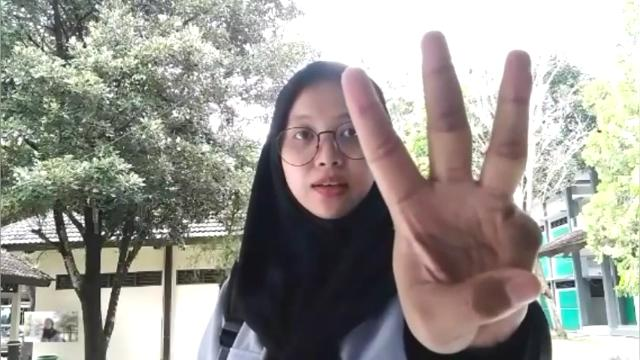W: (340, 28, 546, 356)
